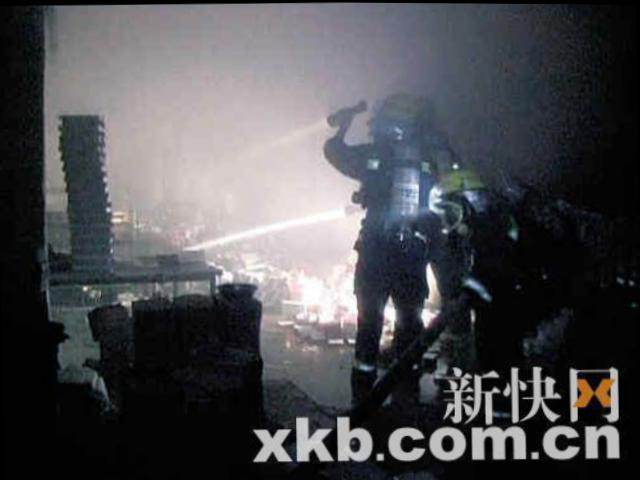fire: (290, 267, 334, 320), (333, 253, 355, 318), (422, 257, 434, 302), (381, 297, 394, 336), (418, 305, 434, 324)
